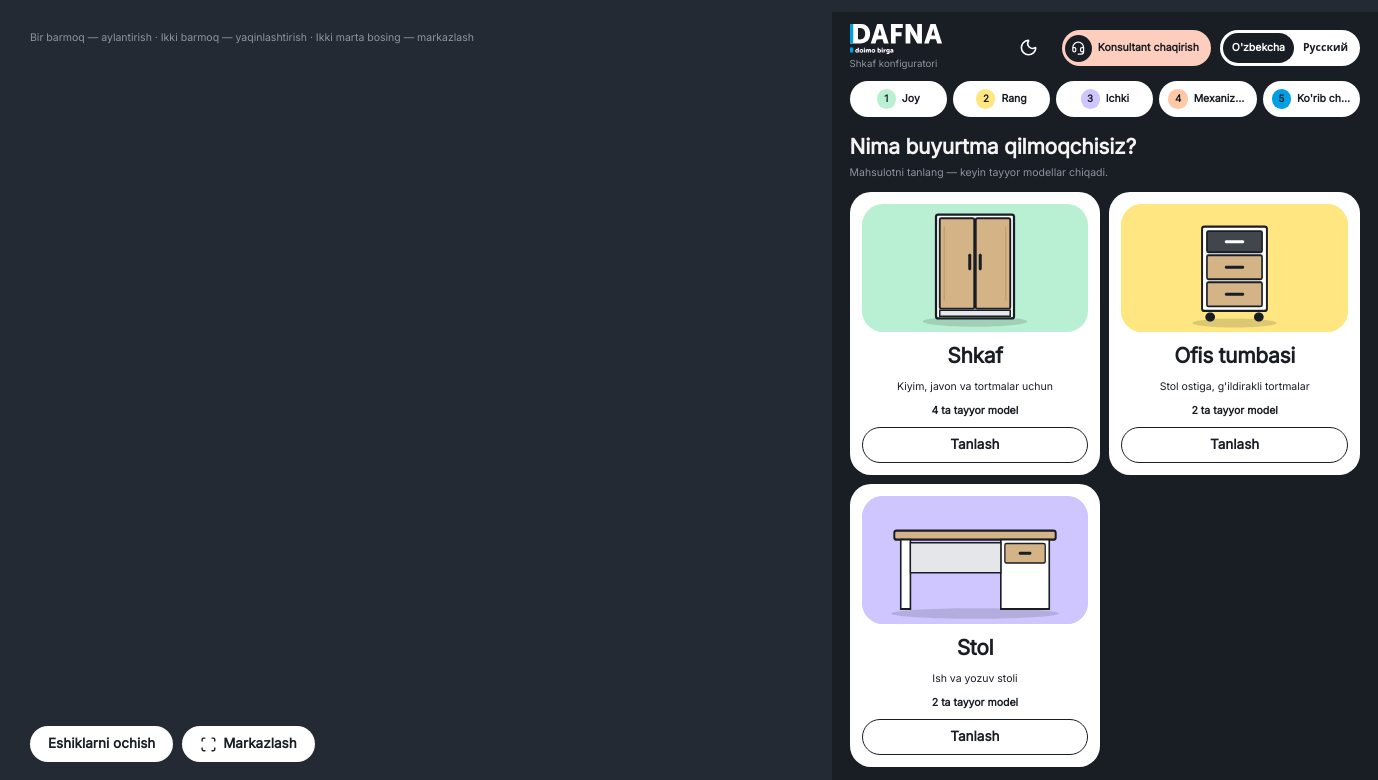
Scenario: D-9 price and mechanisms › D-18: customers see the DEMO price, marked; VITE_HIDE_DEMO_PRICE=1 hides it
Click the button with aria-label "Shkaf: Tanlash" at (975, 334), box x1=850 y1=192 x2=1100 y2=475
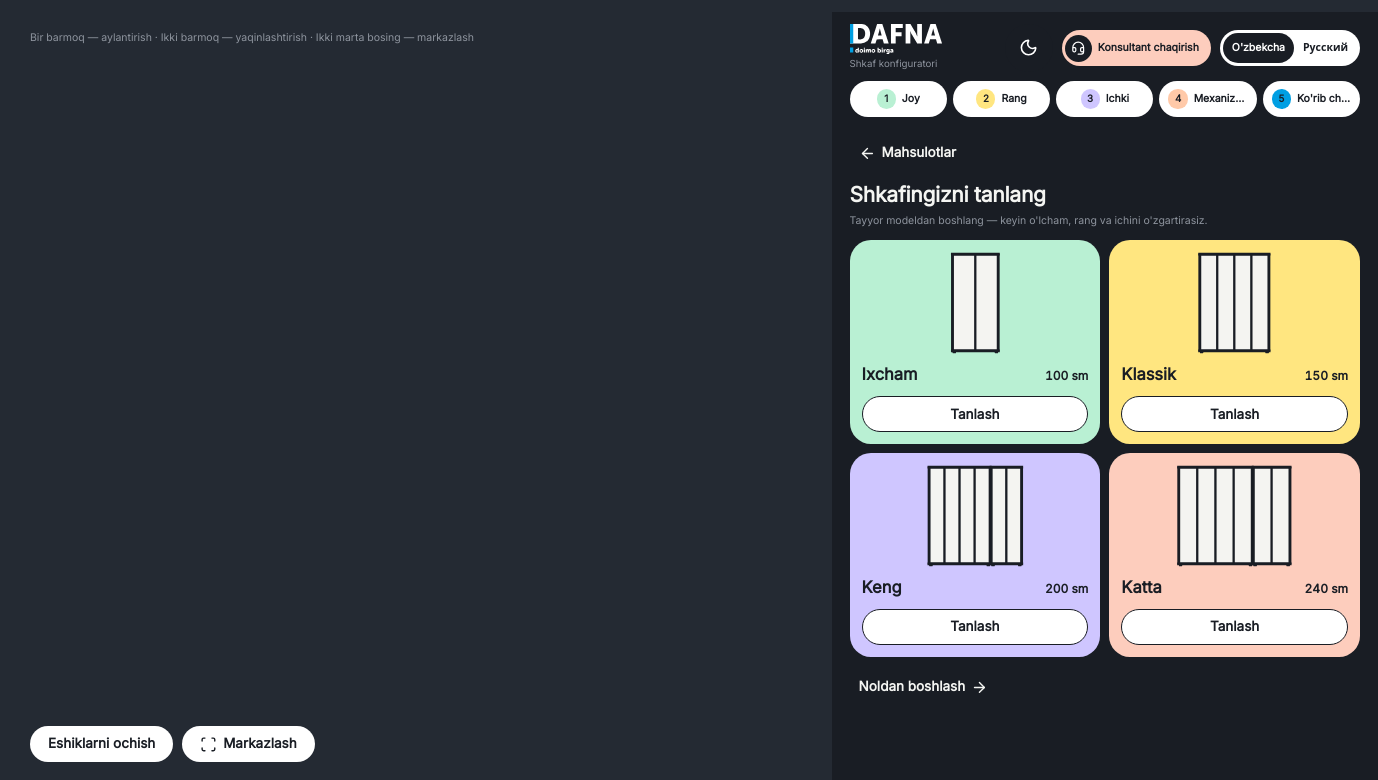
Click the button "Noldan boshlash" at (923, 687), box x1=850 y1=669 x2=997 y2=705
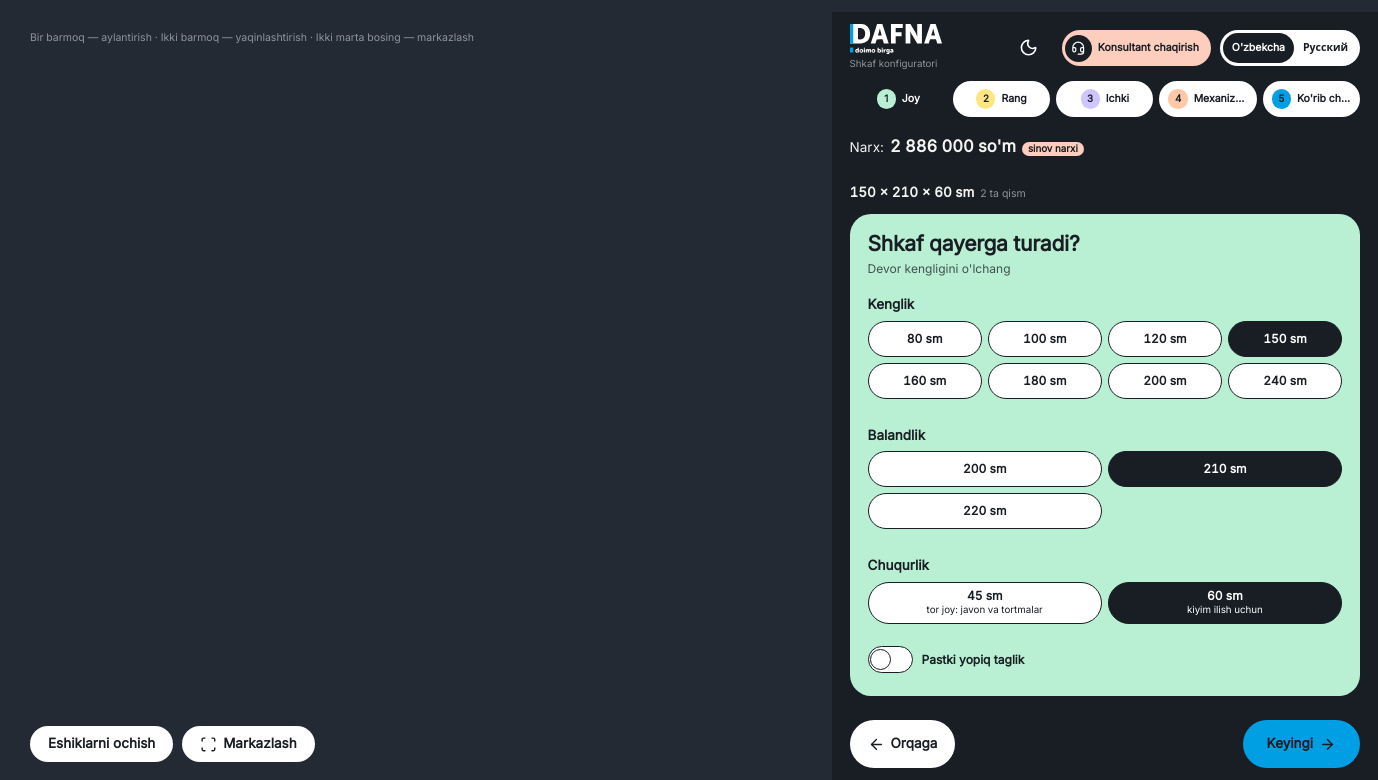
Now the element with test id "price" shows "sinov narxi", box x1=1028 y1=143 x2=1078 y2=154
